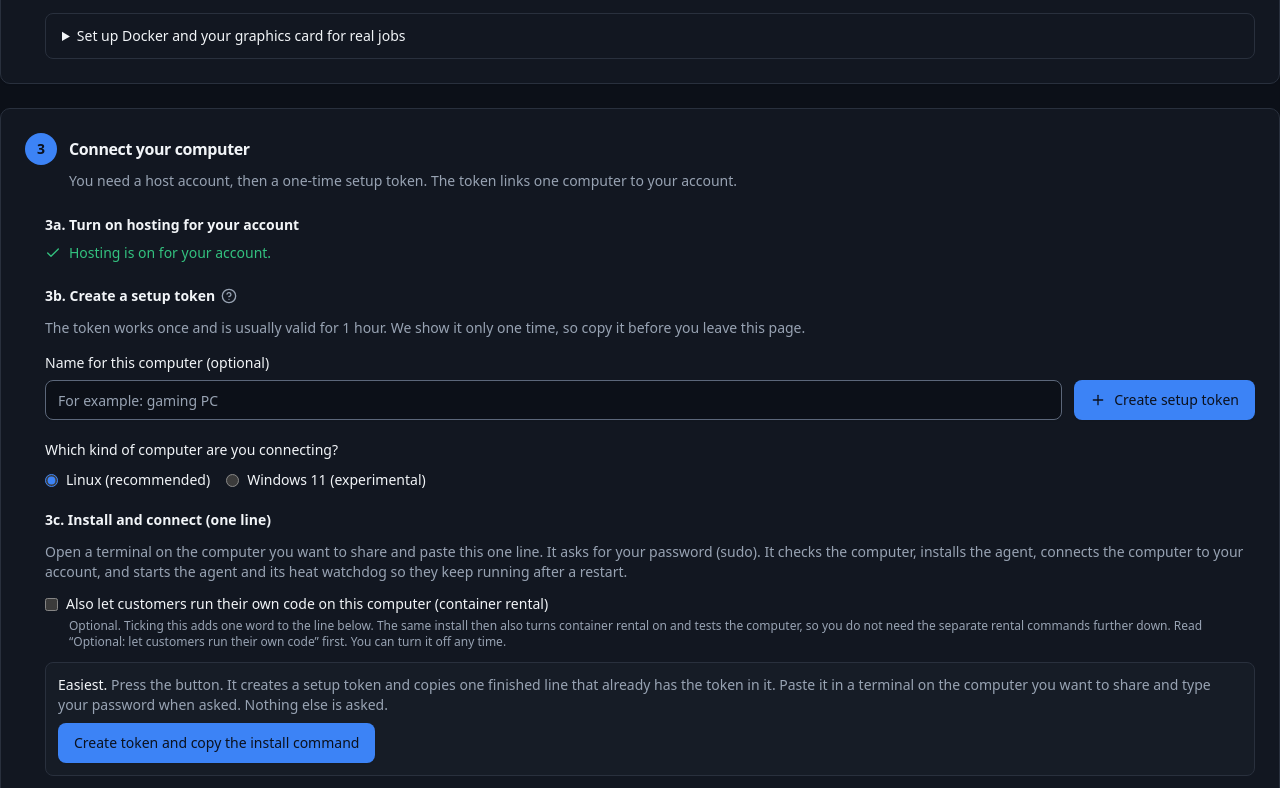
Test: host setup page: a new setup token › replaces the placeholder in step 3c as soon as the token is created
(page scrolled)
Step 1. Click the button "Create setup token" → click(1165, 400), box [1074, 380, 1255, 420]
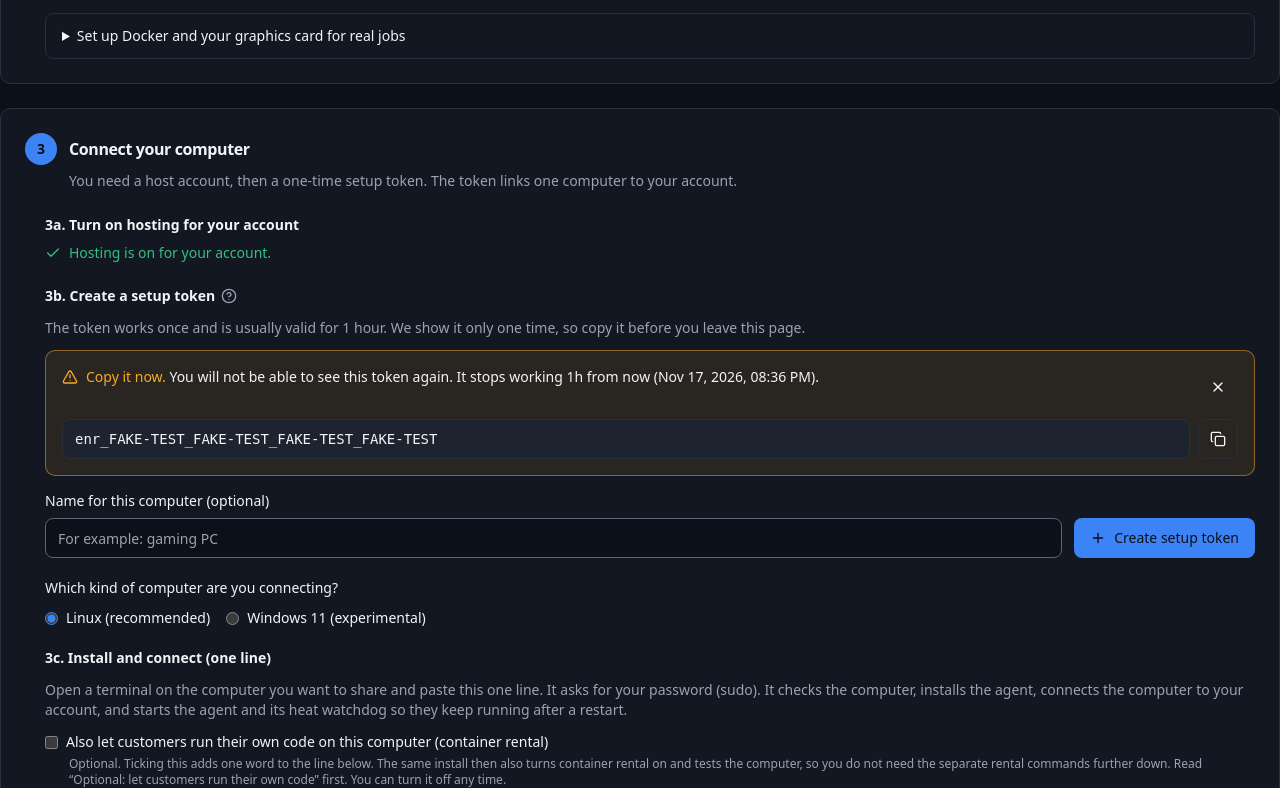
Expected: the text "enr_FAKE-TEST_FAKE-TEST_FAKE-TEST_FAKE-TEST" is shown, [75, 429, 437, 449]
